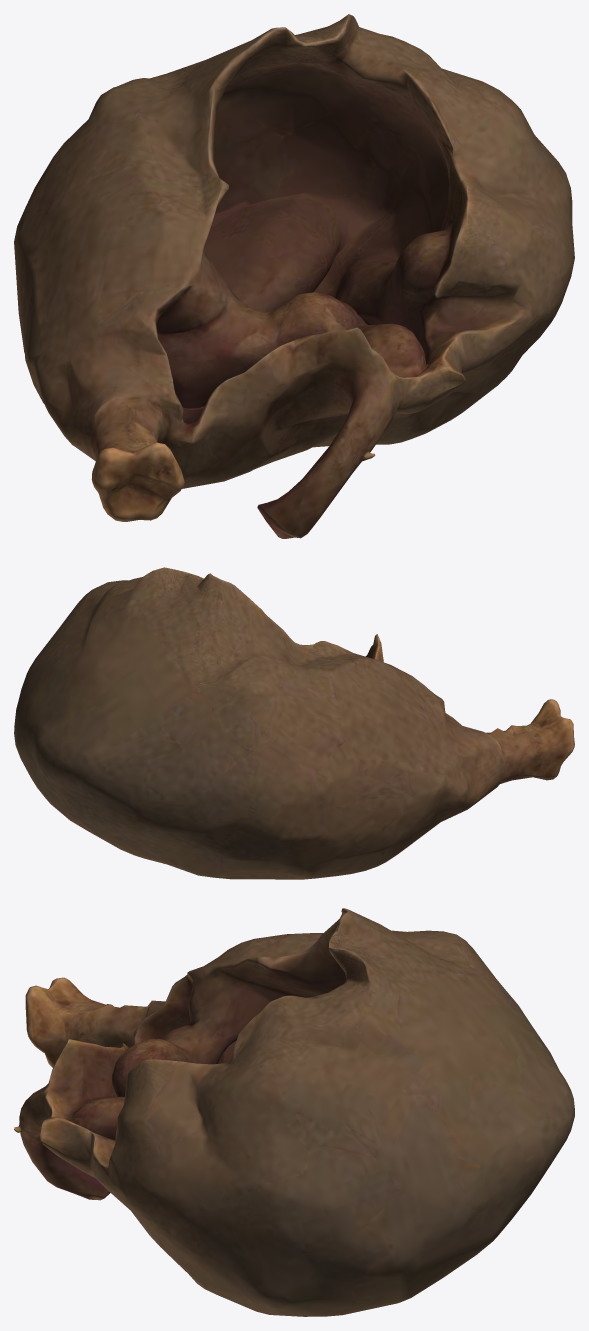
The model's file is gallbladder.glb.
3 renders of one model, top to bottom at view 1: azimuth 30°, elevation 25°; view 2: azimuth 150°, elevation 25°; view 3: azimuth 270°, elevation 25°, orthographic. The views are drawn at different scales.
Visible parts, largest first — view 1: Mesh_0; view 2: Mesh_0; view 3: Mesh_0.
Part boxes in pixels (bbox=[...]): Mesh_0: bbox=[14, 14, 574, 538]; Mesh_0: bbox=[14, 567, 574, 879]; Mesh_0: bbox=[14, 908, 574, 1316].
Bounding box in the file's own units: 1.9 × 1.19 × 1.69.
1 material, 1 textured.
